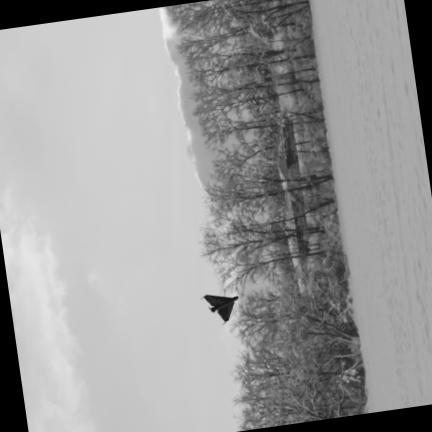Shahed: (203, 295, 237, 320)
